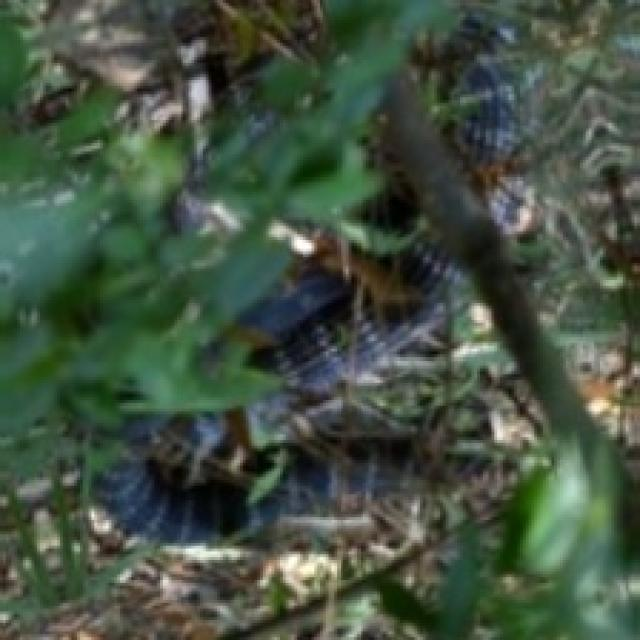king cobra: (86, 0, 526, 540), (463, 57, 514, 189), (494, 174, 531, 231)
